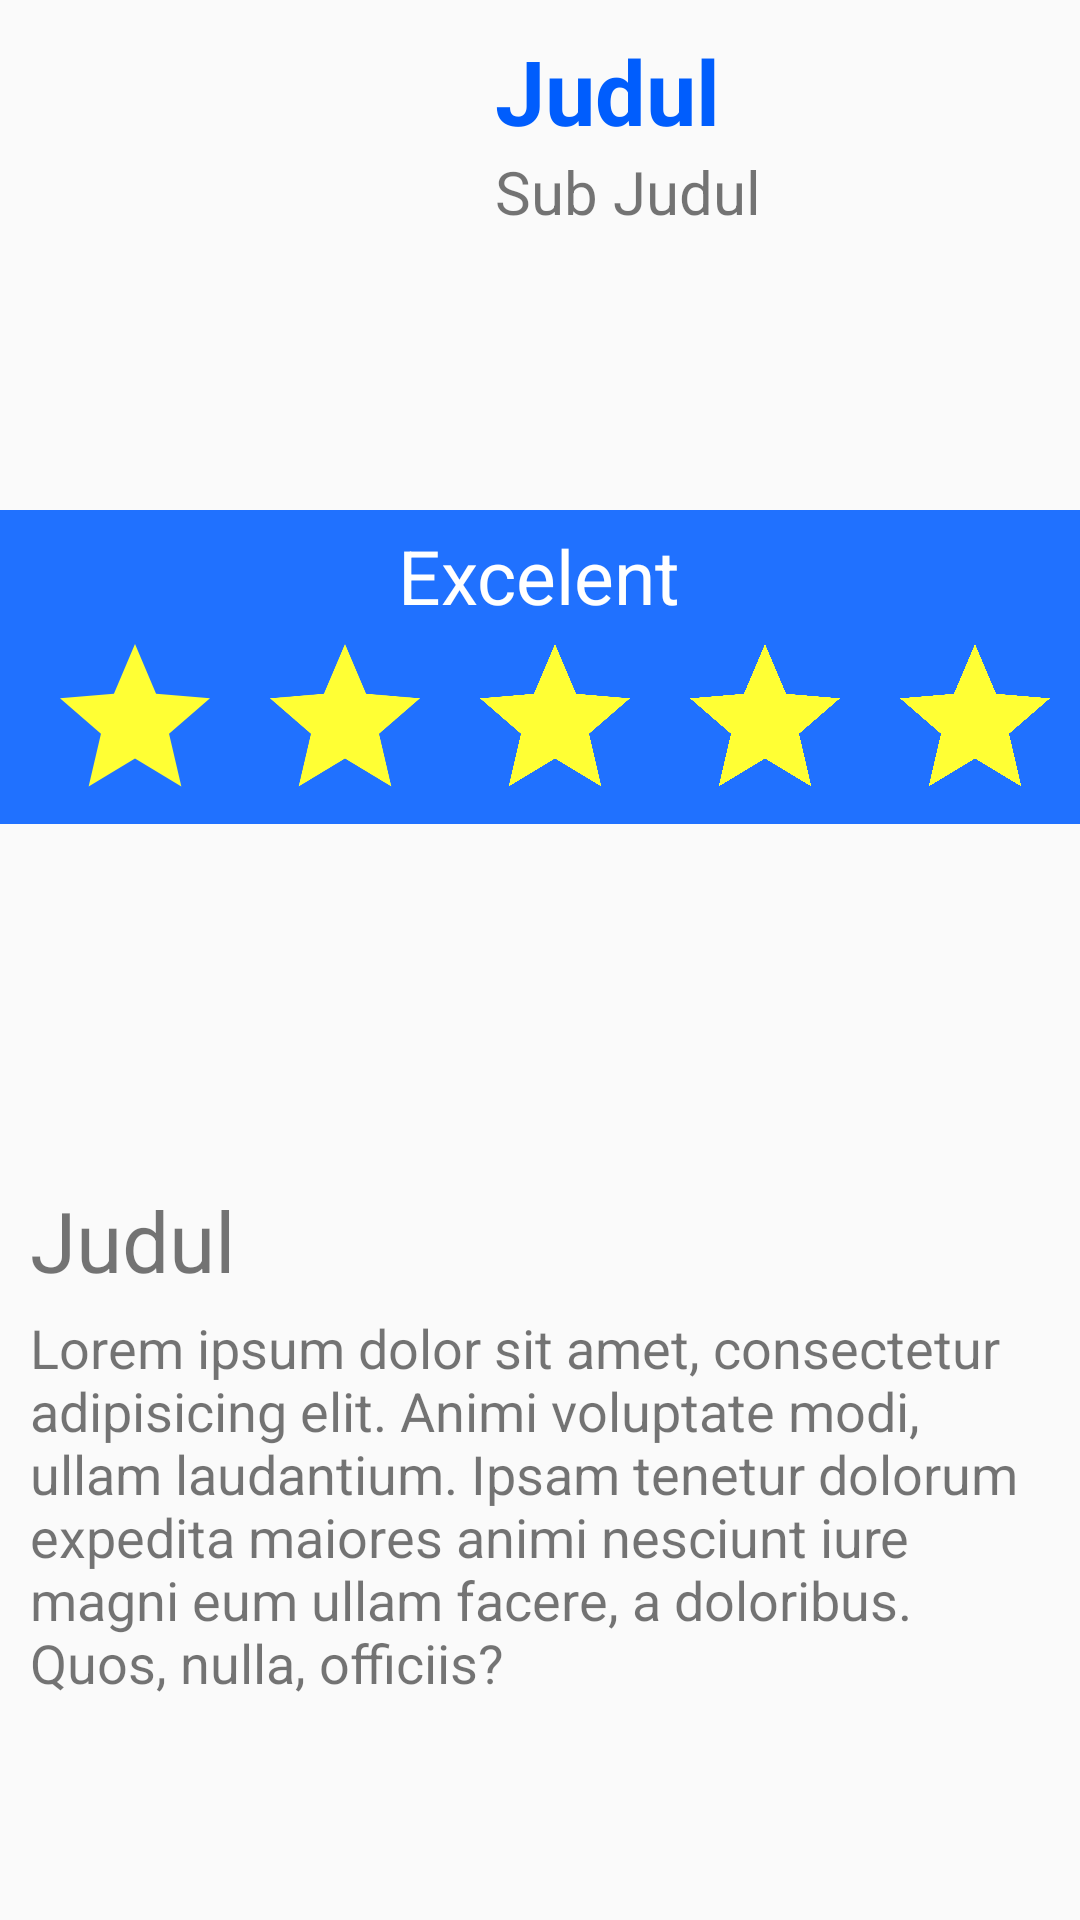

Where to tap for icons on this 1080*1920 app screen, as (x=x, y=y):
star: (x=135, y=715), (x=345, y=715), (x=555, y=715), (x=765, y=715), (x=975, y=715)
